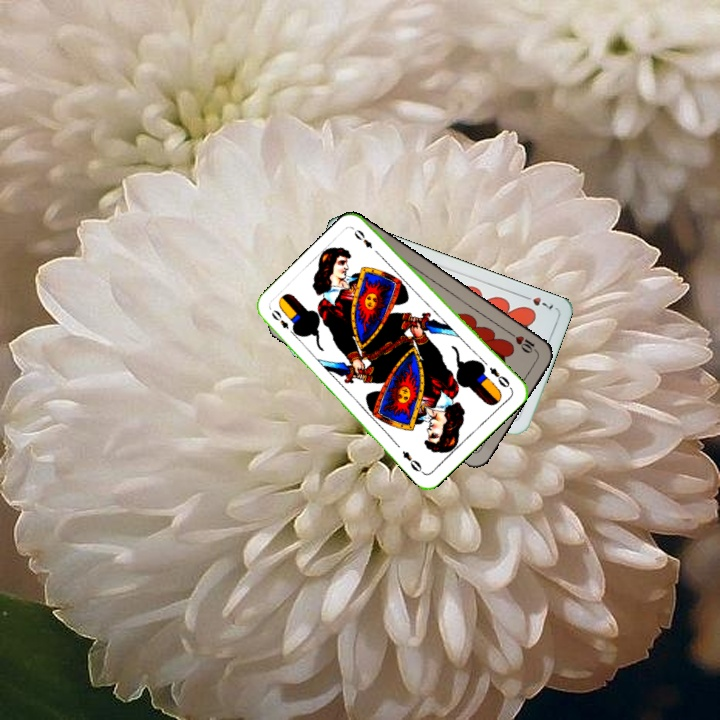EO: (267, 305, 299, 338), (485, 363, 514, 392)
H10: (505, 328, 541, 356)
H7: (518, 291, 556, 312)
